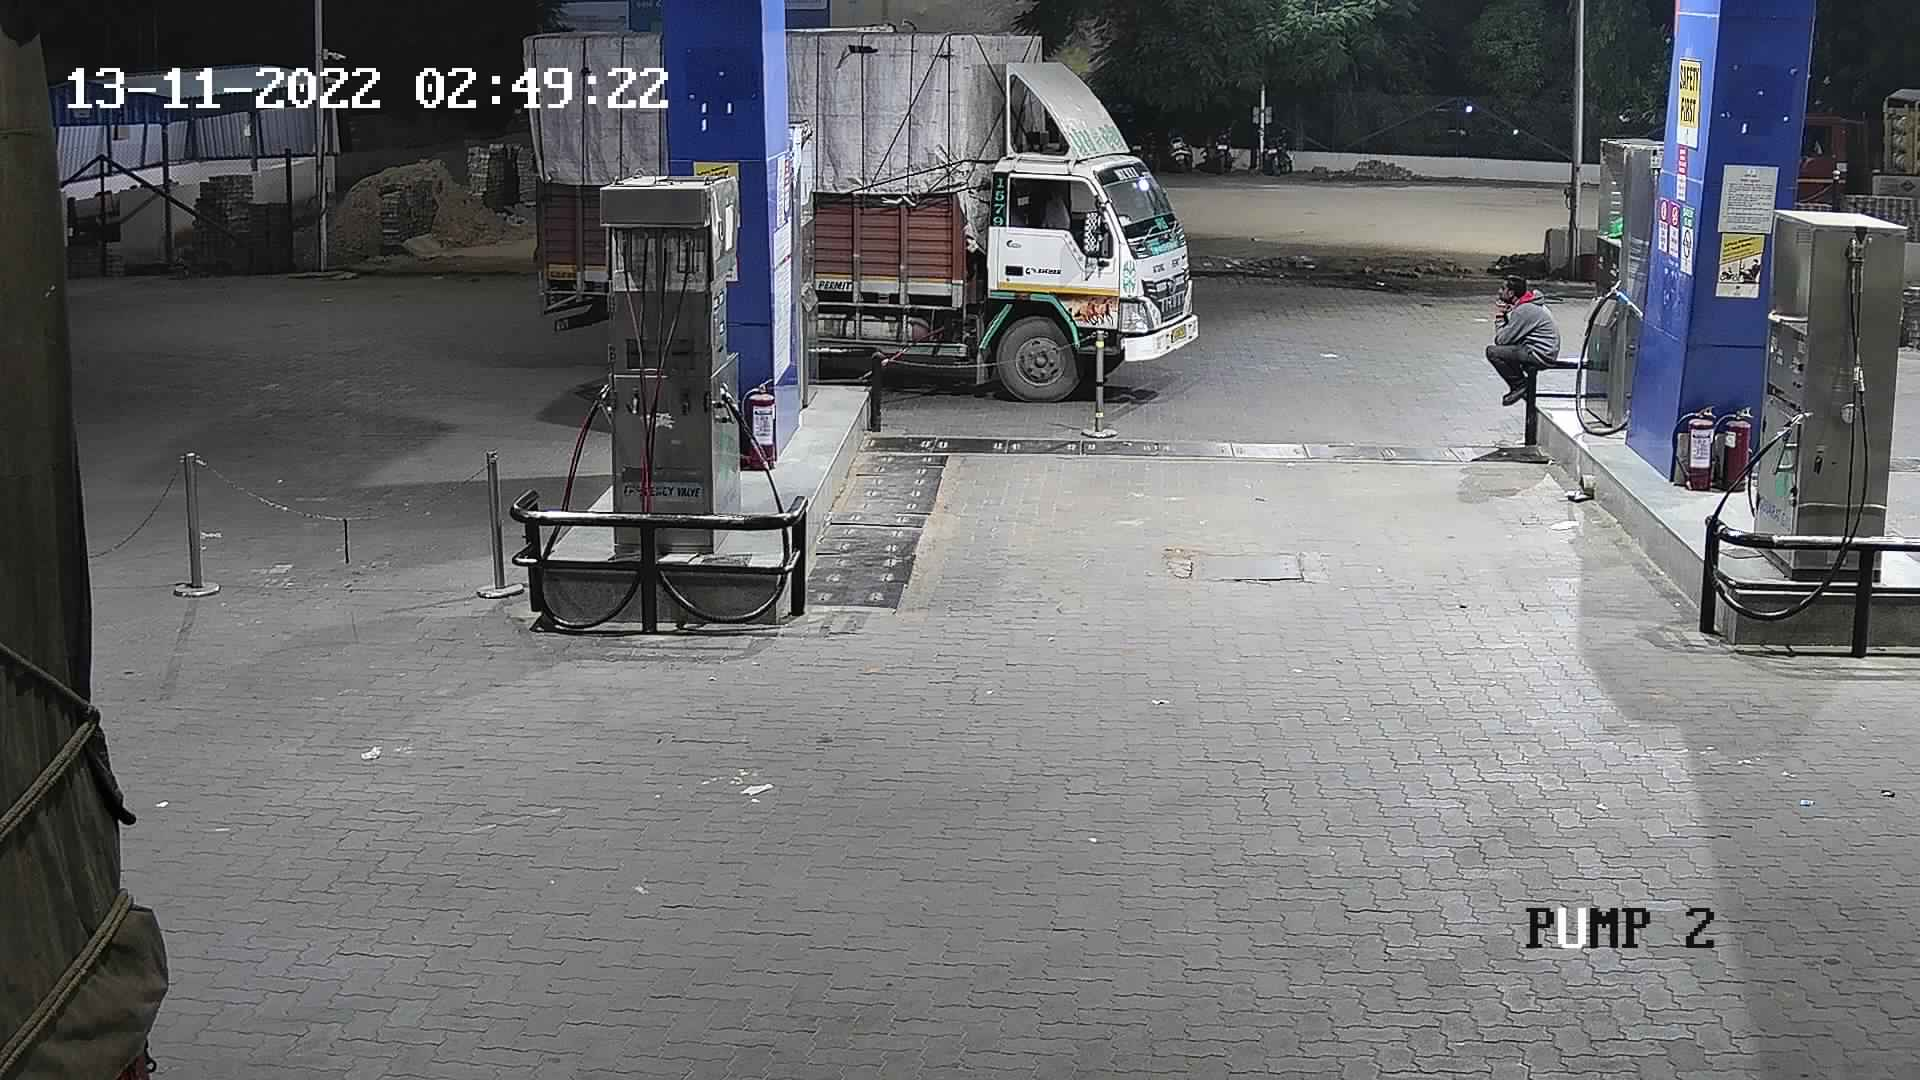Bike: (1154, 107, 1211, 179), (1249, 116, 1303, 186), (1203, 116, 1245, 185)
HMV: (0, 5, 202, 1073), (777, 11, 1207, 411), (1767, 62, 1917, 243)
Others: (1476, 266, 1567, 410)
